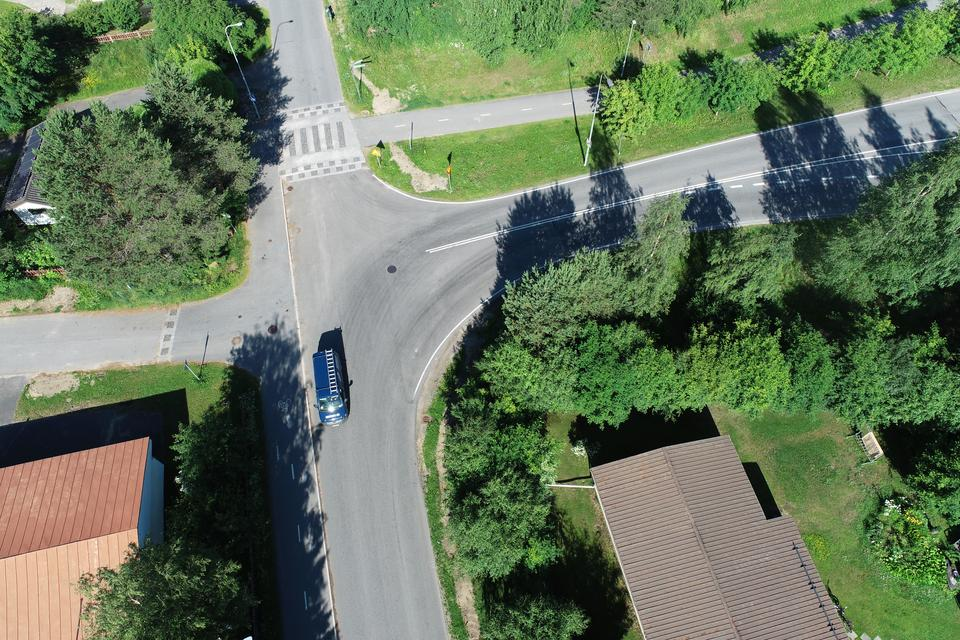intersection: (206, 187, 528, 434), (214, 85, 427, 179)
